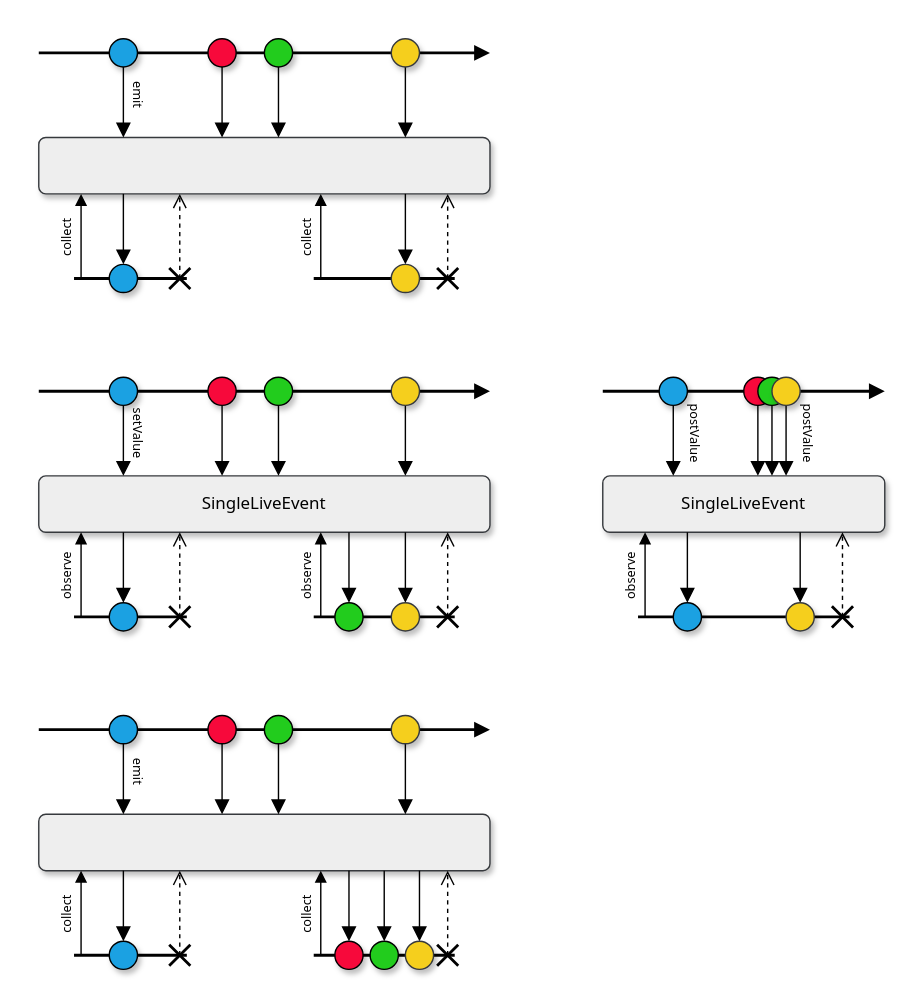
This 922x1007 diagram has some shape labels left out. The shapes that lost their labels are listed below. From the top down, each one's centre as x and y in pixels, then its label:
the point at 265,167: SharedFlow
the point at 265,844: EventBuffer
